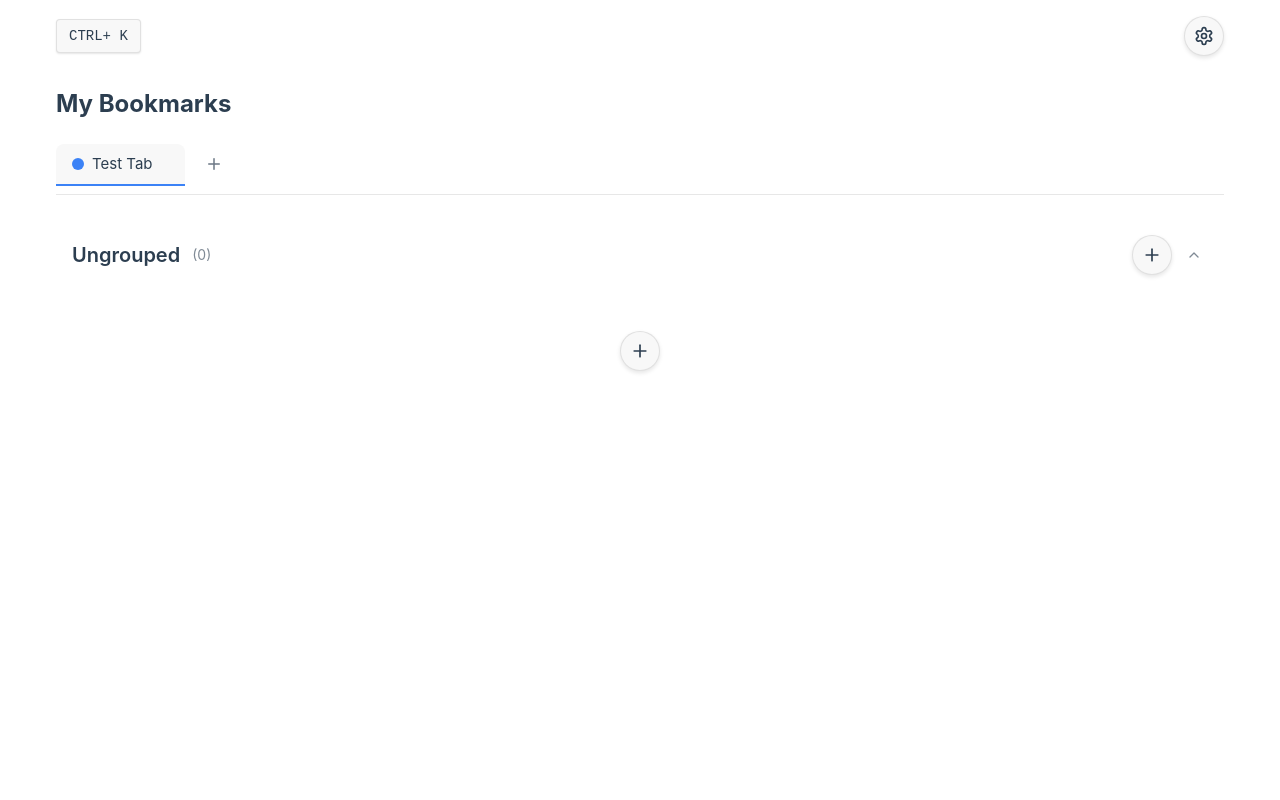
Test case: HomeView › shows AddBookmarkForm when + button is clicked
The width and height of the screenshot is (1280, 800).
Click the button named "Add new bookmark". click: x=1152, y=255
box: [1132, 235, 1172, 275]
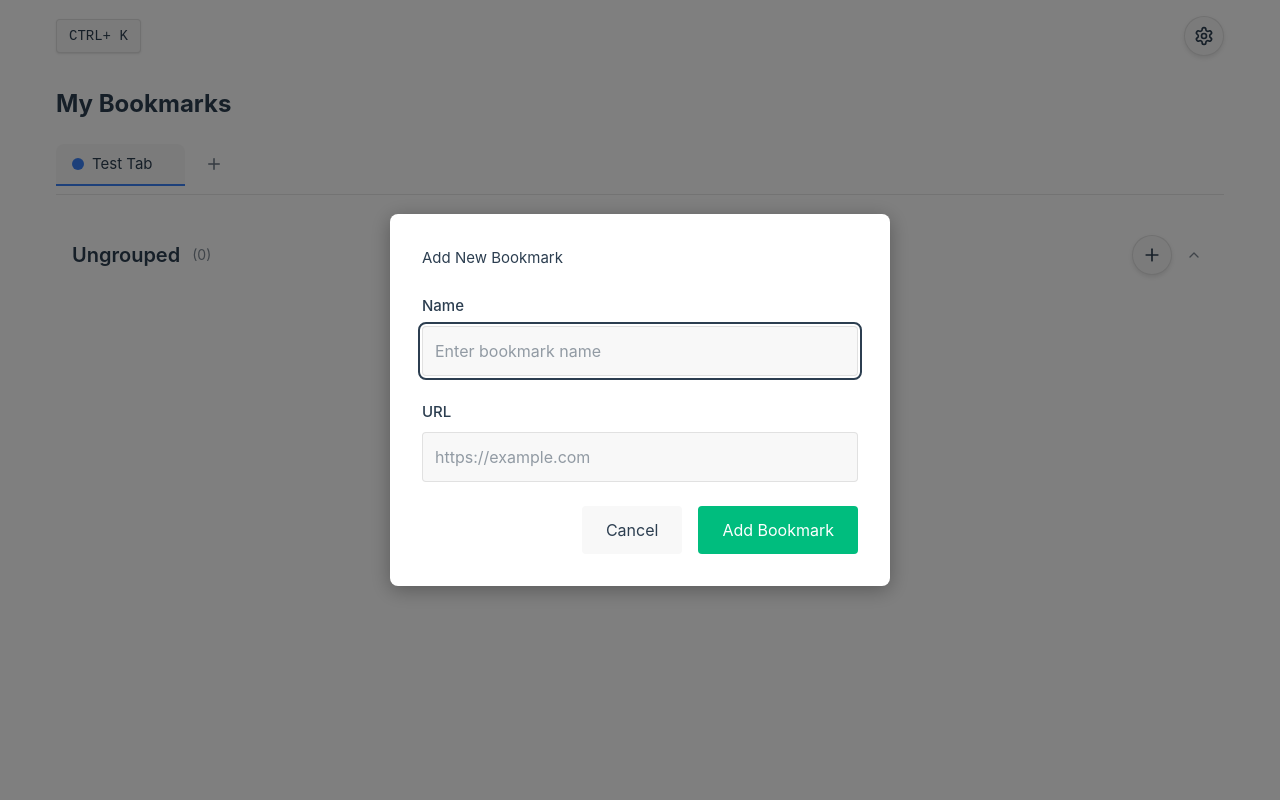
Expected: the element showing "Add New Bookmark Name URL Cancel Add Bookmark" is shown
